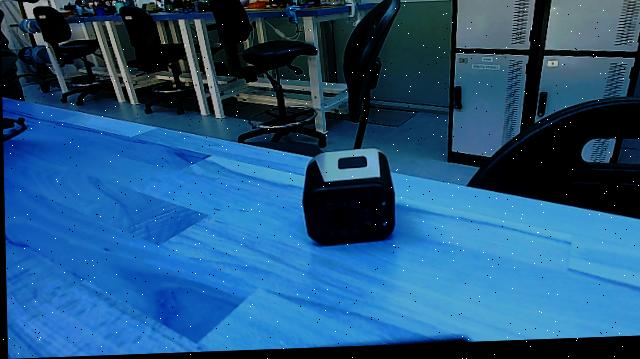adapter: (290, 141, 402, 255)
